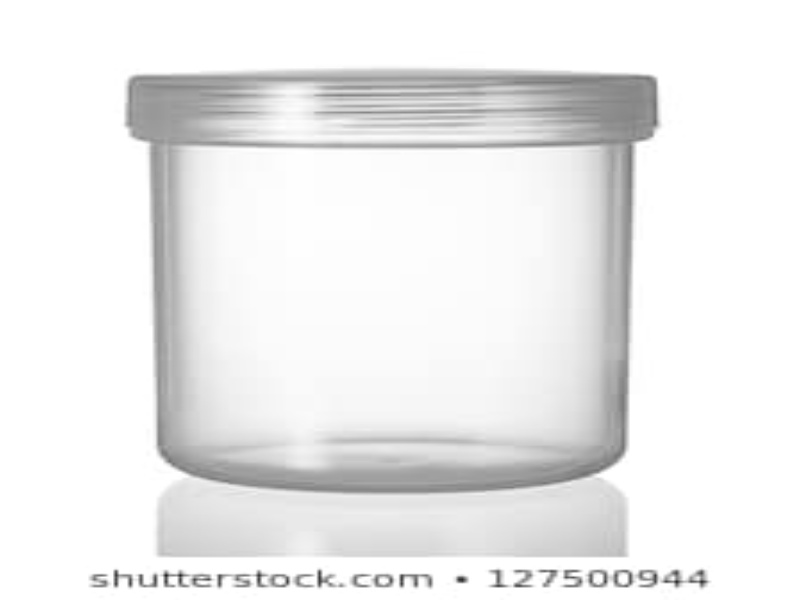plastic-container: (114, 64, 659, 498)
